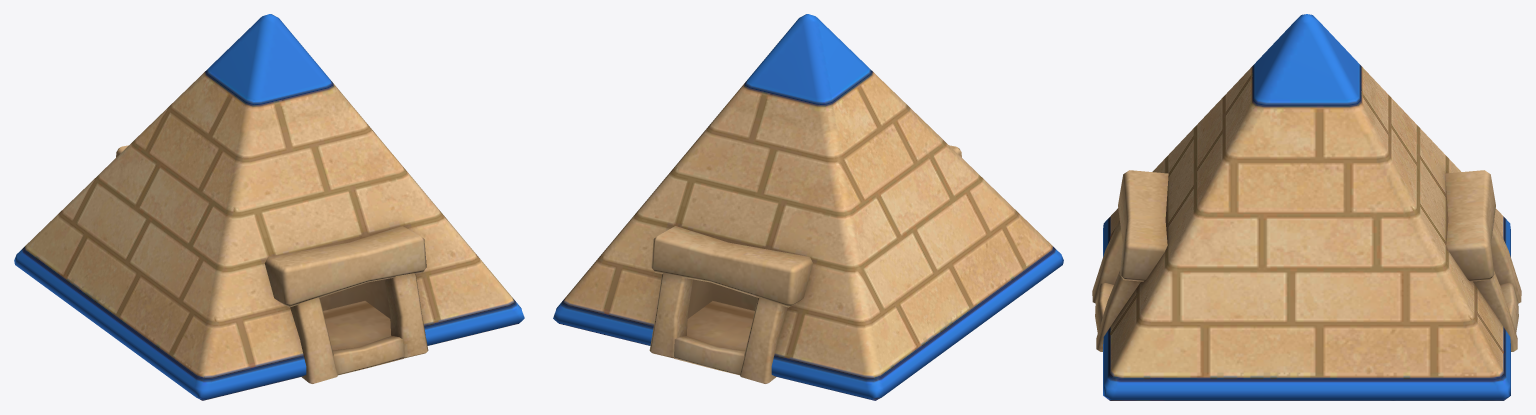
File: 0-pyramid_blue.fbx
3 renders of one model, left to right at view 1: azimuth 30°, elevation 25°; view 2: azimuth 150°, elevation 25°; view 3: azimuth 270°, elevation 25°, orthographic. The views are drawn at different scales.
Parts seen in each view (by area): view 1: 0-pyramid_blue; view 2: 0-pyramid_blue; view 3: 0-pyramid_blue.
Boxes of the visible parts, box(x1,y1,x2,y2) form: 0-pyramid_blue: box(14, 14, 524, 400); 0-pyramid_blue: box(553, 14, 1063, 400); 0-pyramid_blue: box(1092, 14, 1521, 400).
Bounding box in the file's own units: 88.13 × 73.41 × 92.71.
